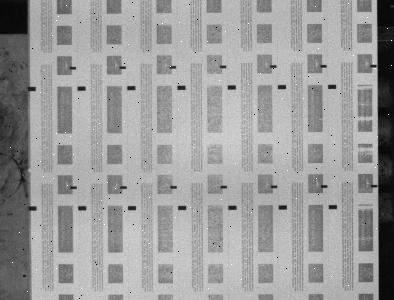backgroundclutter: (23, 274, 26, 277)
qblock: (77, 86, 86, 91), (177, 85, 186, 90), (178, 205, 187, 210), (28, 86, 36, 91), (328, 84, 336, 89), (28, 206, 37, 210), (127, 86, 136, 90), (227, 85, 236, 89), (328, 205, 337, 209), (228, 205, 237, 209), (278, 85, 286, 89), (78, 206, 86, 210), (128, 206, 136, 210), (279, 205, 287, 209)
smallqblock: (220, 185, 227, 189), (371, 184, 378, 188), (70, 66, 76, 70), (119, 66, 126, 69), (270, 65, 277, 68), (169, 66, 176, 69), (220, 65, 227, 68), (70, 186, 77, 189), (320, 65, 327, 68), (370, 64, 377, 67), (120, 186, 127, 189), (271, 185, 278, 188), (170, 186, 177, 189), (321, 185, 328, 188)
